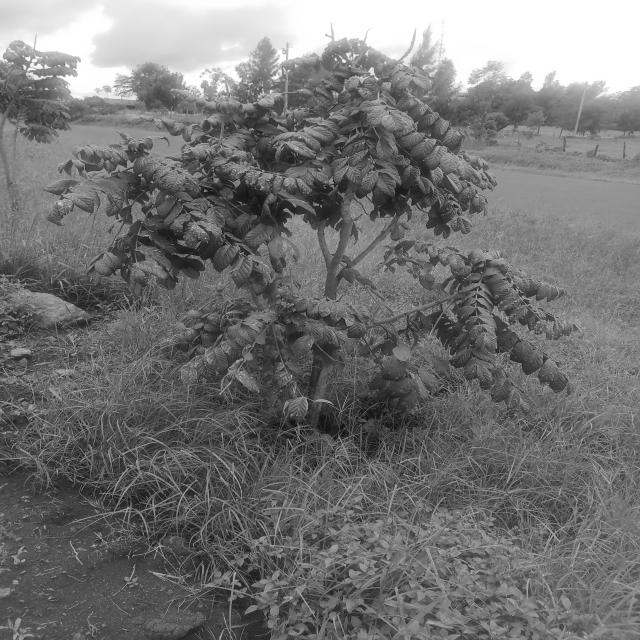Polyscias Kikuyensis: (55, 49, 579, 440)
